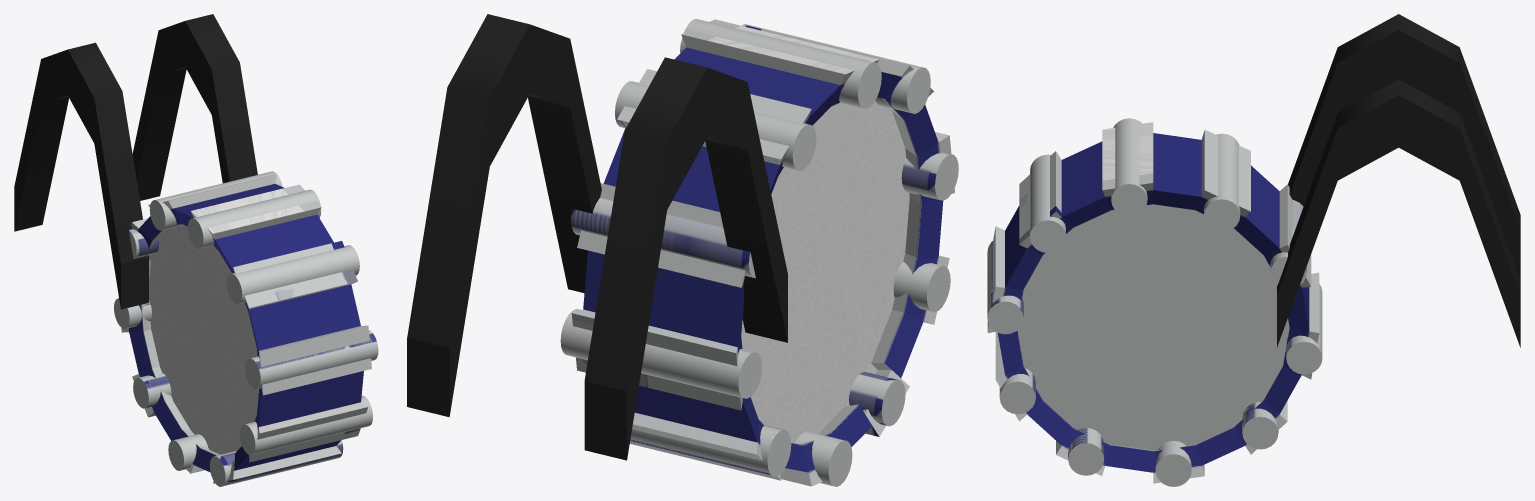
File: drums2.fbx
3 views of the same model, side by side, from view 1: azimuth 30°, elevation 25°; view 2: azimuth 150°, elevation 25°; view 3: azimuth 270°, elevation 25° (orthographic). The views are drawn at different scales.
Visible parts, largest first — view 1: pCylinder56; view 2: pCylinder56; view 3: pCylinder56.
Part boxes in pixels (bbox=[...]): pCylinder56: bbox=[14, 14, 378, 486]; pCylinder56: bbox=[407, 14, 958, 486]; pCylinder56: bbox=[987, 14, 1520, 486].
Size of the model in its own units: 0.3209 by 0.7393 by 0.8895.
1 material, 1 textured.
